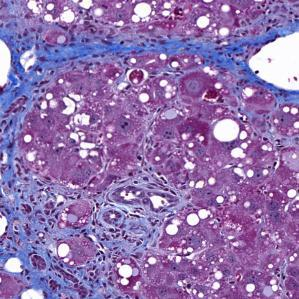fibrosis: (10, 172, 156, 274), (10, 24, 138, 85)
